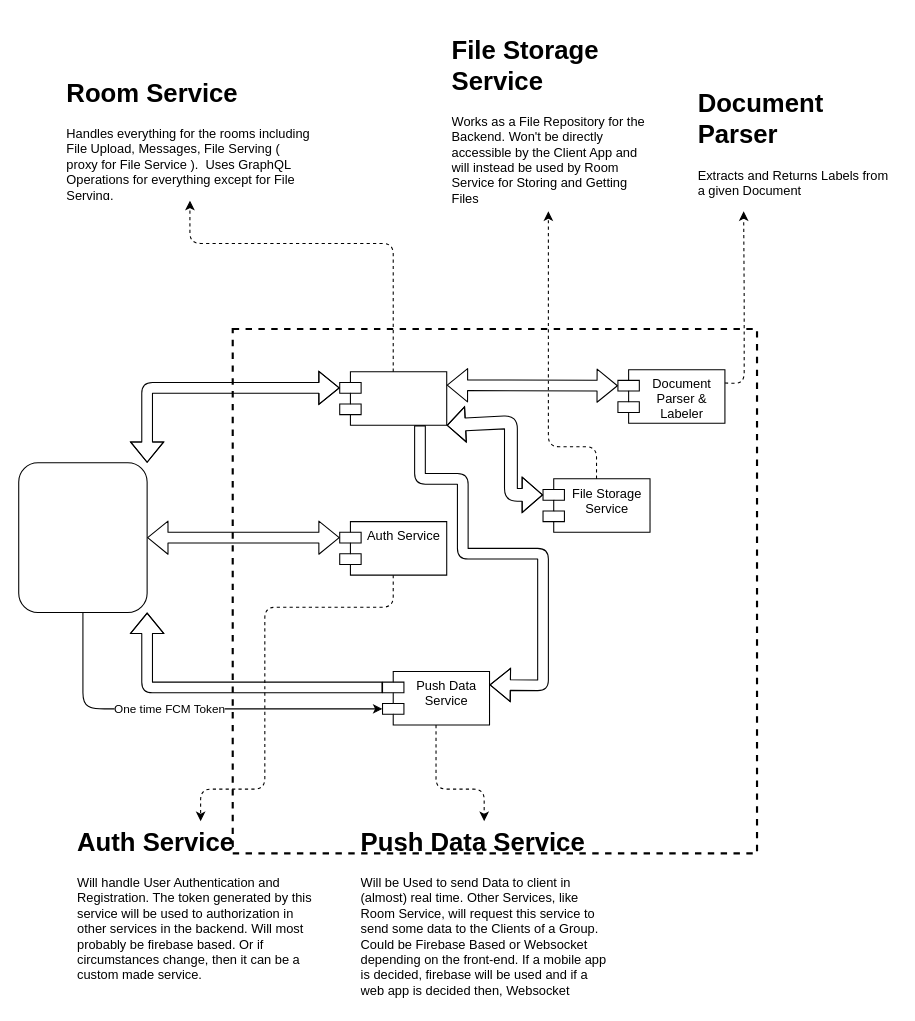
Some shapes in this 915 by 1021 pixel diagram are drawn without their labels. The centre of each missing label's shape, as x and y in pixels:
"Client App" goes at (82,537).
"Room Service (GraphQL + Rest)" goes at (393,398).
